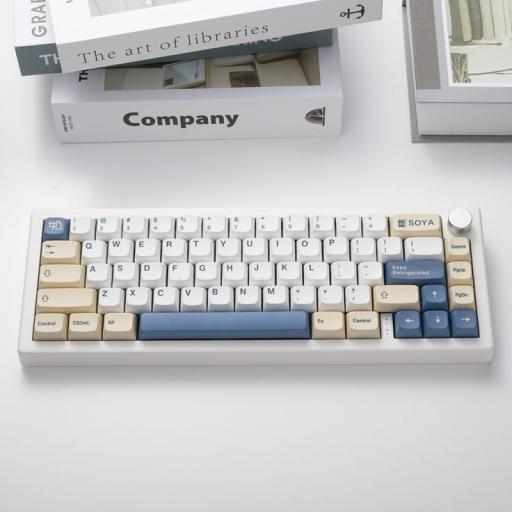keyboard: (22, 203, 496, 371)
